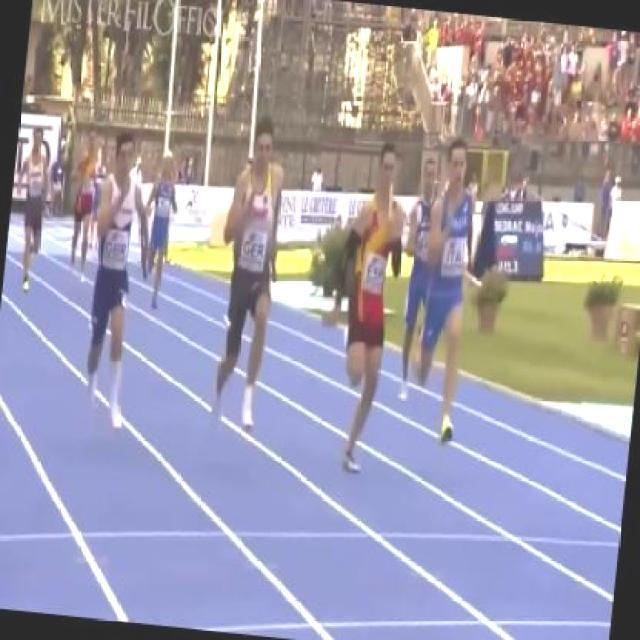non-fight: (321, 137, 414, 471), (203, 114, 292, 437), (404, 134, 488, 440), (75, 121, 156, 427)
